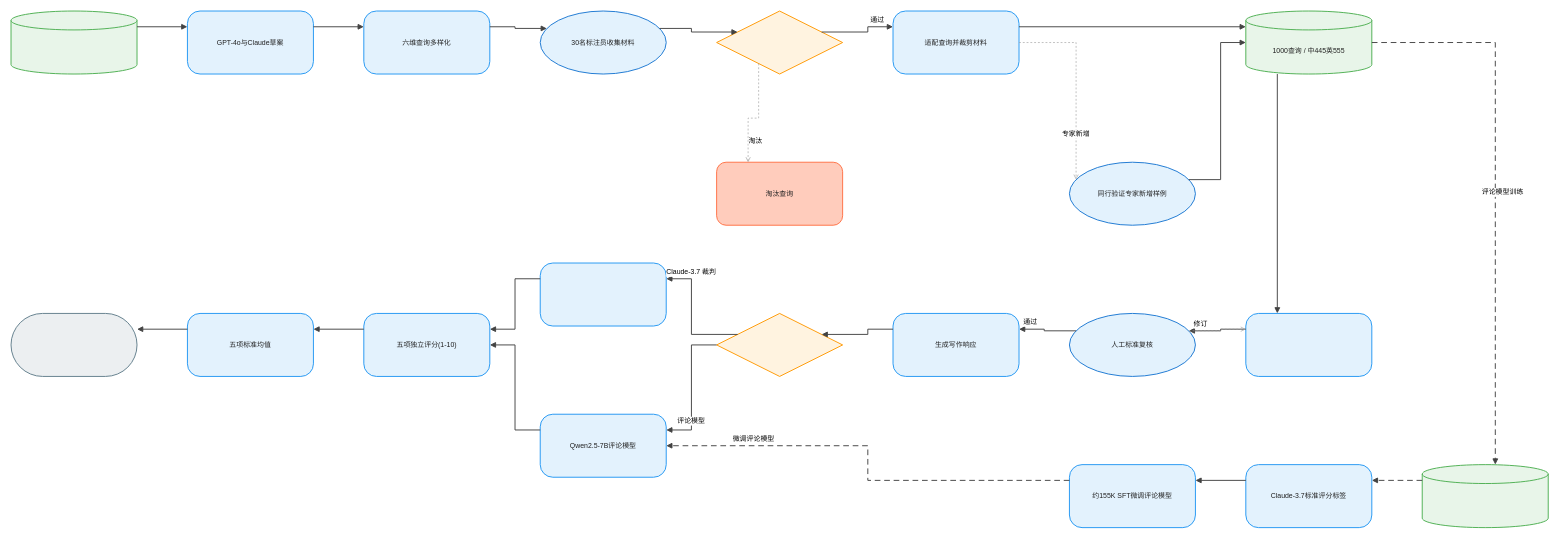
This 1560x539 diagram has some shape labels left out. Here are the shapes that lost their labels. From the top down, the centre of each, then its label:
At point 73,42: "6领域 / 100子域".
At point 779,42: "五专家筛查通过？".
At point 602,294: "Claude-3.7裁判".
At point 73,345: "总体与需求子集报告".
At point 779,345: "Claude裁判或微调评论模型".
At point 1308,345: "Claude-3.7生成恰好5标准".
At point 1484,496: "约40模型响应池".
